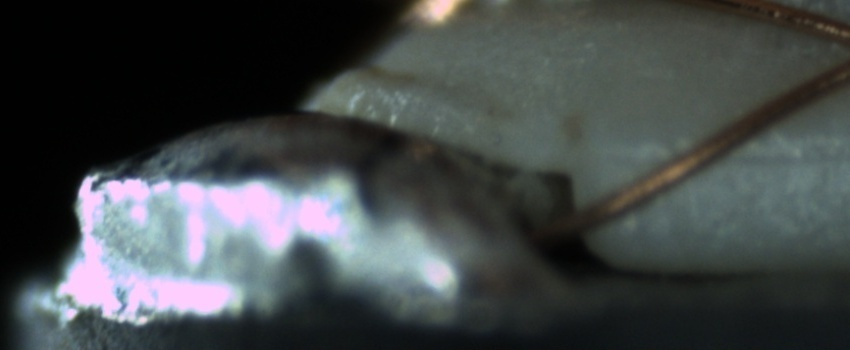DL: (621, 121, 847, 189)
